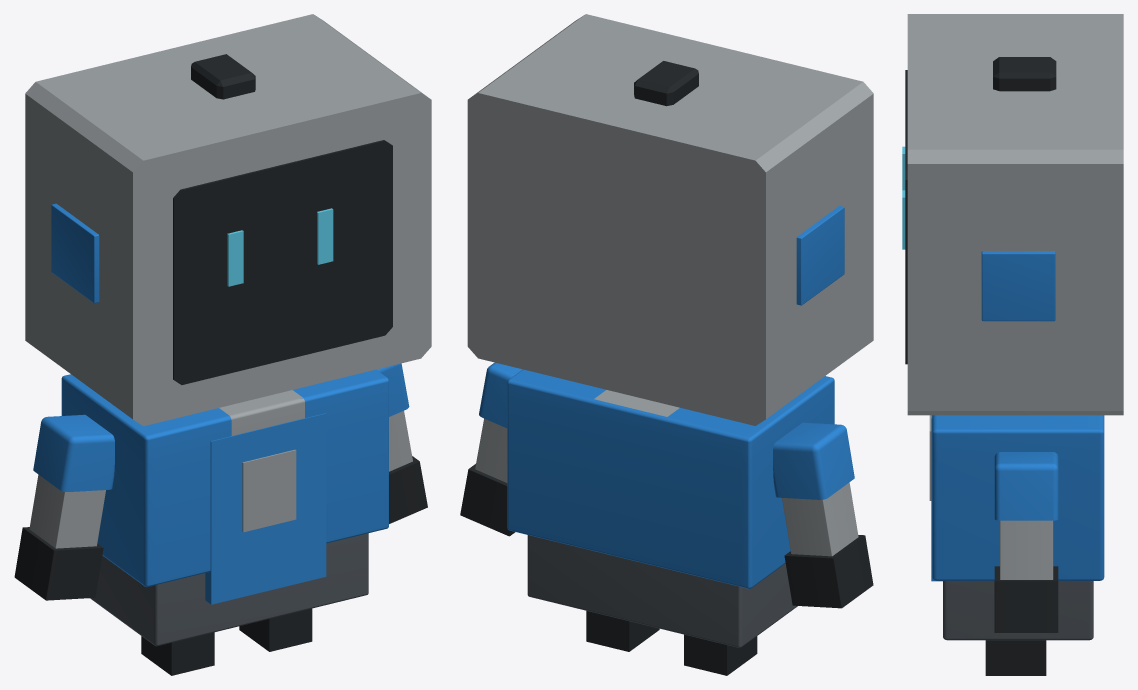
The model's file is roboott2.fbx.
The picture shows the model from 3 angles, left to right: view 1: azimuth 30°, elevation 25°; view 2: azimuth 150°, elevation 25°; view 3: azimuth 270°, elevation 25°; orthographic projection.
Parts seen in each view (by area): view 1: Cube, Cube.001, Cube.007, Cube.013, Cube.009, Cube.008, Cube.010, Cube.003, Cube.011, Cube.016, Cube.012, Cube.005 (+1 smaller); view 2: Cube, Cube.007, Cube.013, Cube.008, Cube.003, Cube.016, Cube.011, Cube.012; view 3: Cube, Cube.007, Cube.013, Cube.008, Cube.004, Cube.012, Cube.016, Cube.001, Cube.009.
Part boxes in pixels (<box>): Cube: <box>25,14,431,426</box>; Cube.001: <box>173,140,392,384</box>; Cube.007: <box>61,369,388,586</box>; Cube.013: <box>14,363,427,600</box>; Cube.009: <box>205,413,326,604</box>; Cube.008: <box>90,533,368,646</box>; Cube.010: <box>242,449,296,532</box>; Cube.003: <box>51,203,99,303</box>; Cube.011: <box>141,632,214,675</box>; Cube.016: <box>191,54,255,99</box>; Cube.012: <box>239,608,312,651</box>; Cube.005: <box>227,230,243,286</box>; Cube: <box>467,14,873,425</box>; Cube.007: <box>507,369,834,588</box>; Cube.013: <box>460,362,873,608</box>; Cube.008: <box>527,535,797,647</box>; Cube.003: <box>796,206,844,305</box>; Cube.016: <box>634,61,698,106</box>; Cube.011: <box>684,634,757,675</box>; Cube.012: <box>586,611,659,651</box>; Cube: <box>907,14,1123,415</box>; Cube.007: <box>932,415,1104,580</box>; Cube.013: <box>994,452,1058,632</box>; Cube.008: <box>943,581,1093,640</box>; Cube.004: <box>981,251,1055,321</box>; Cube.012: <box>985,640,1046,675</box>; Cube.016: <box>993,57,1056,91</box>; Cube.001: <box>905,70,907,364</box>; Cube.009: <box>931,415,942,581</box>.
Size of the model in its own units: 78.68 by 113 by 39.4.
